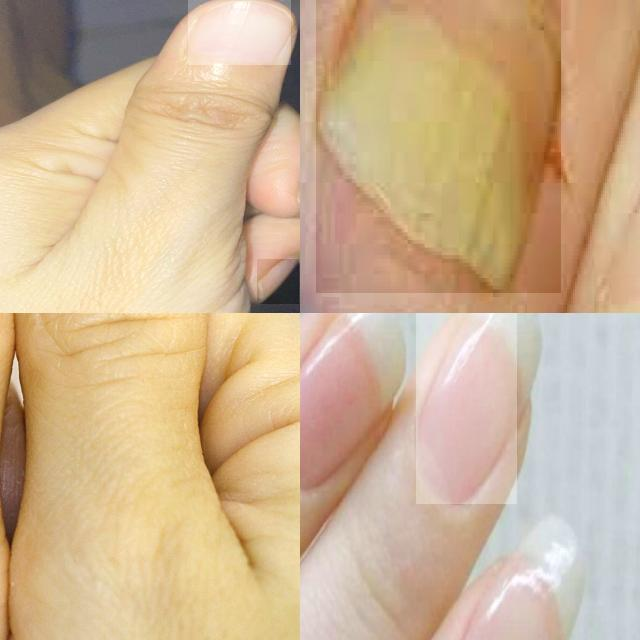diabetes: (316, 0, 561, 293)
sehat: (417, 313, 517, 504), (300, 313, 382, 491), (463, 557, 559, 640), (189, 0, 291, 65), (258, 260, 299, 304)
